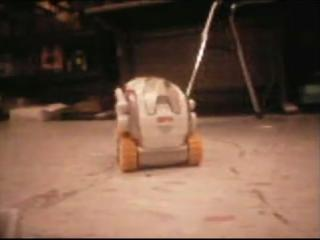cozmo: (112, 75, 203, 172)
